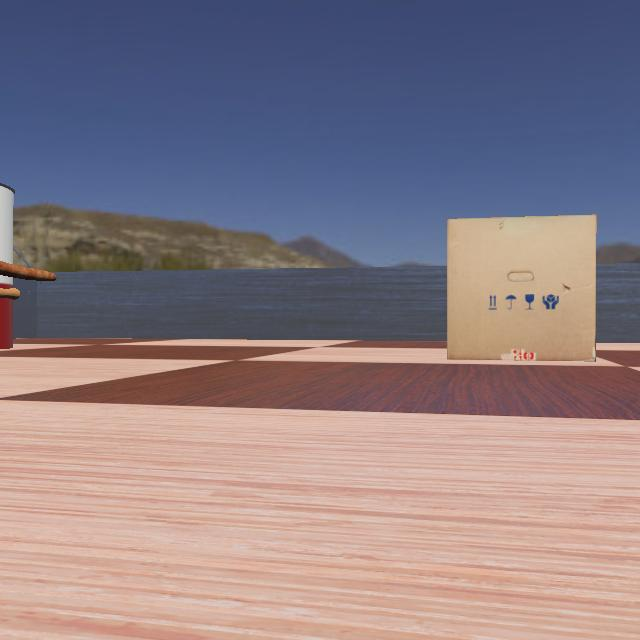cardboard-box: (425, 213, 629, 361)
cat: (0, 242, 60, 282), (0, 242, 60, 282), (0, 242, 60, 282)
paint-bucket: (0, 162, 56, 354), (0, 162, 56, 354)
